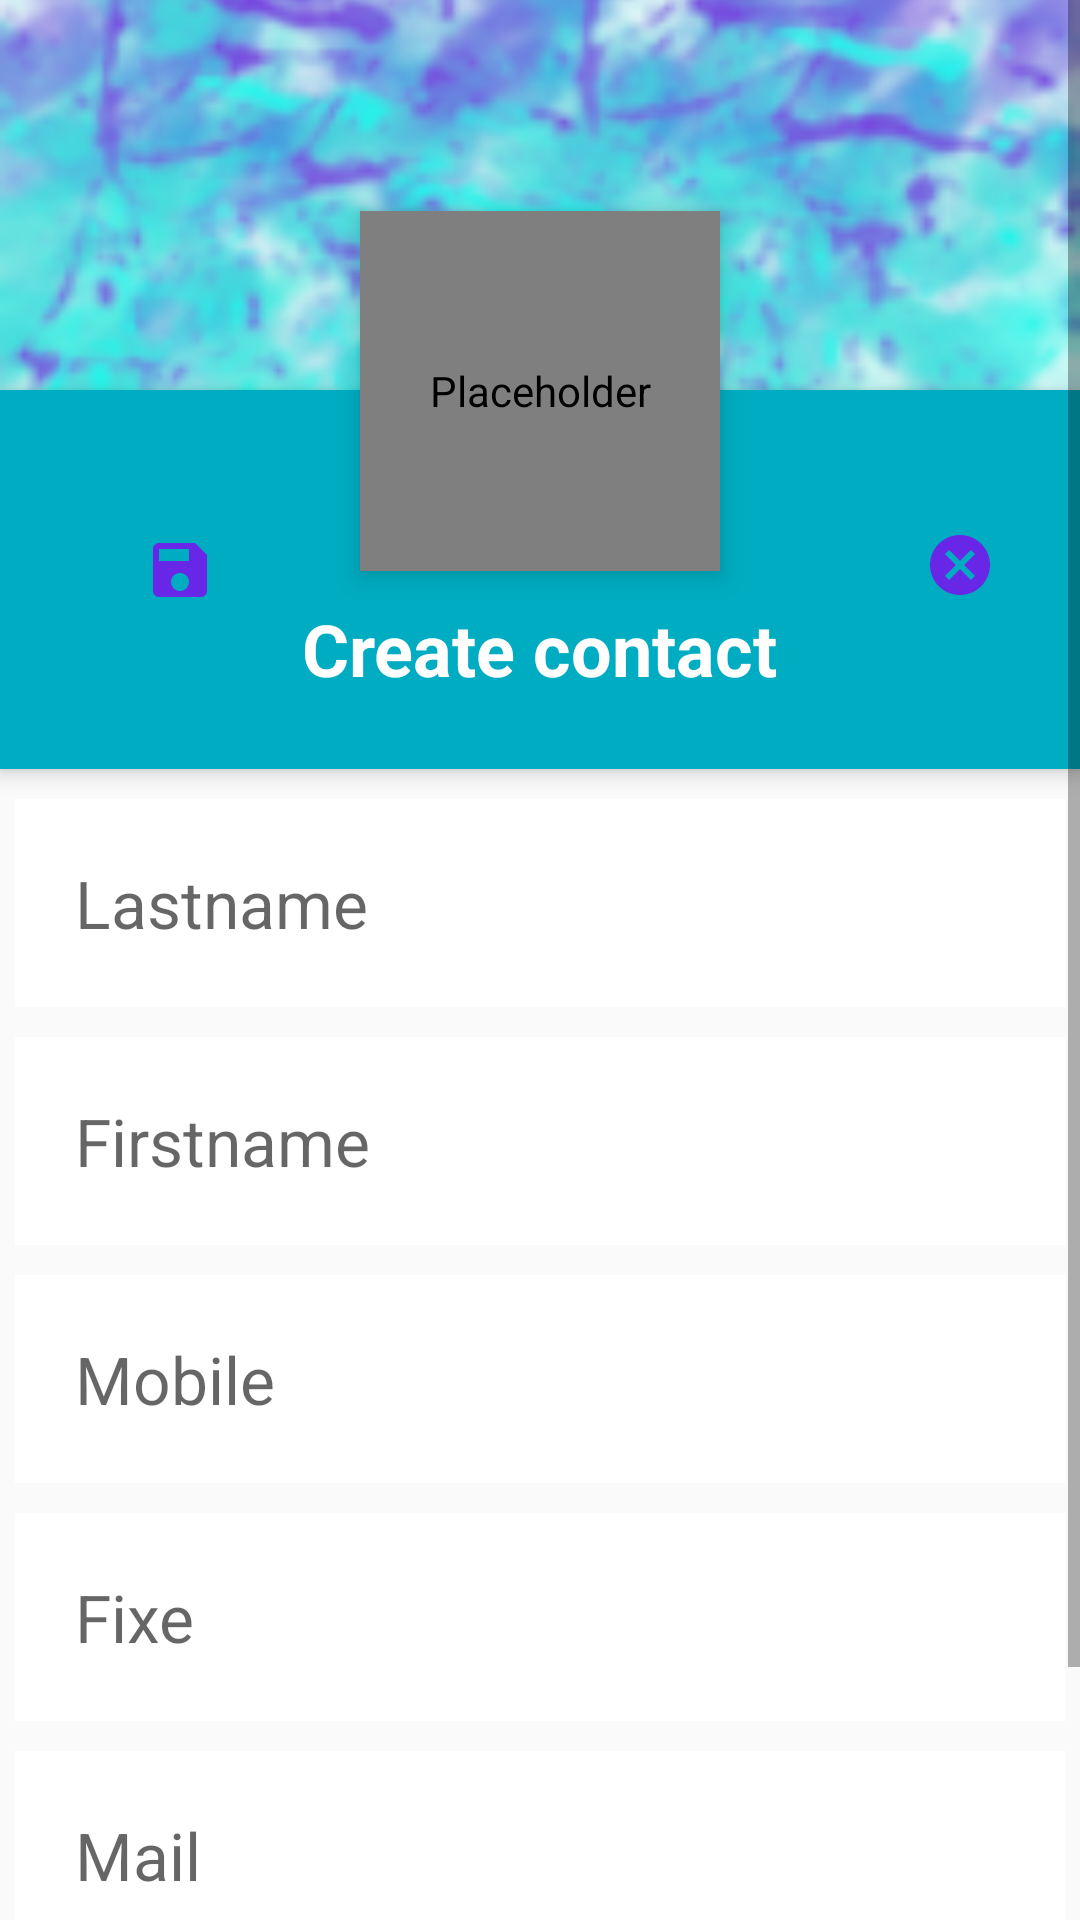

Locate icon controls on the screen. Image size 1080px×1920px, boxes as (x1, y1, x2, y2).
Cancel: (930, 535, 990, 595)
save: (153, 543, 207, 597)
